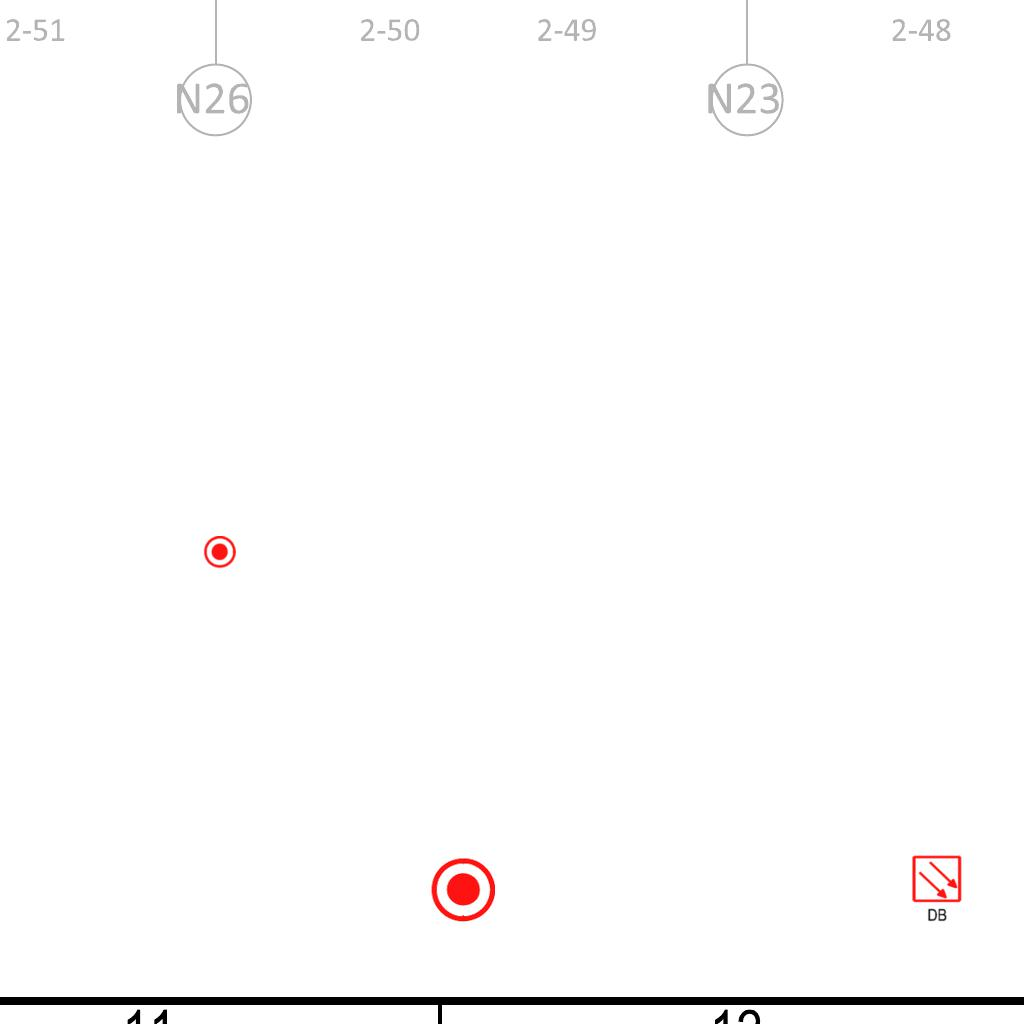DB_Melder_in_Doppelboden_mit_Revisionsoeffnung_mind_40_x_40_cm: (909, 852, 966, 926)
Taster: (429, 856, 495, 922), (203, 536, 236, 569)
